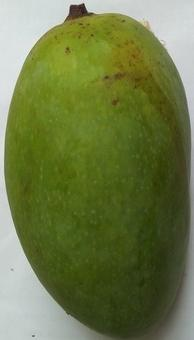Unripe: (1, 1, 194, 340)
